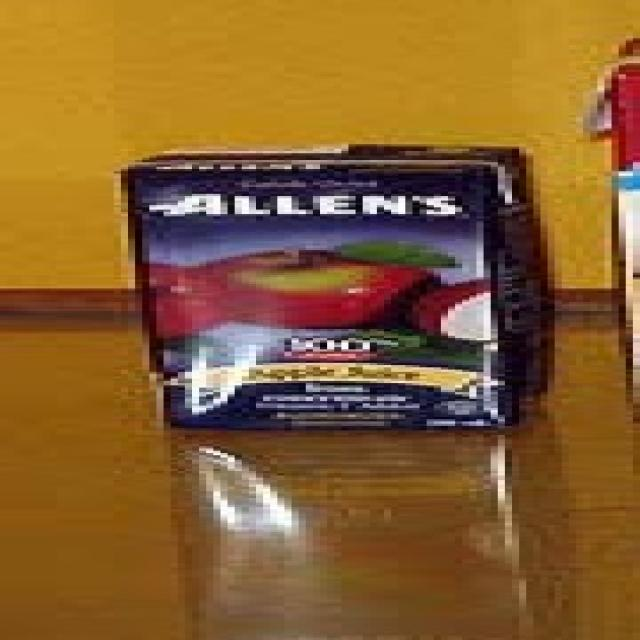drink carton: (70, 126, 542, 478)
